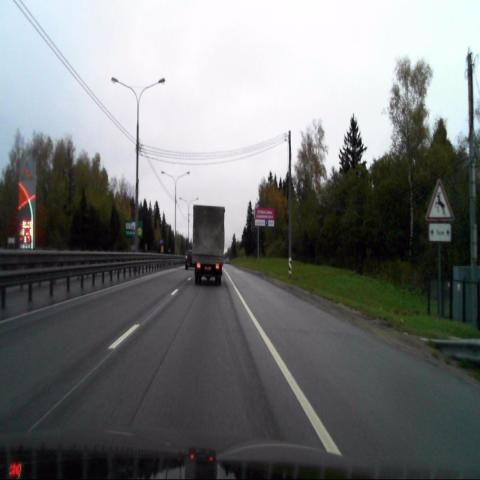1_27: (426, 179, 454, 222)
